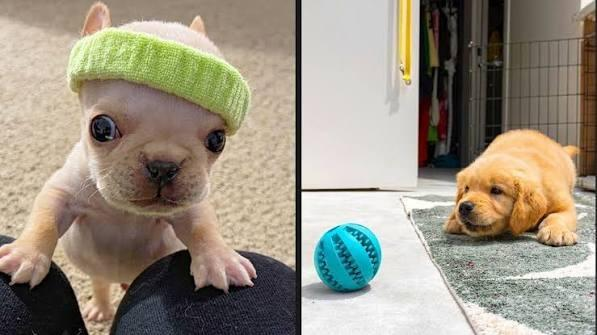puppy-dog: (0, 0, 254, 323), (442, 128, 580, 248)
